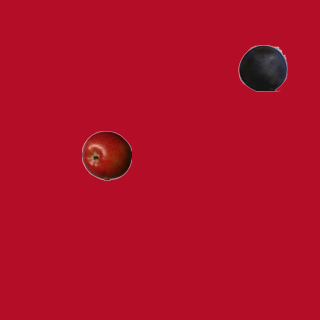Apple Braeburn: (81, 130, 131, 180)
Grape Blue: (237, 42, 287, 92)
